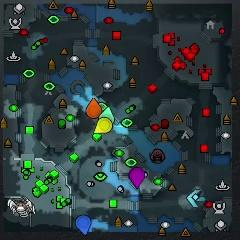p1: (76, 215, 91, 235)
p2: (99, 106, 115, 122)
p3: (128, 167, 144, 188)
p4: (94, 118, 113, 134)
p5: (86, 97, 102, 119)
x3: (187, 189, 204, 208)
